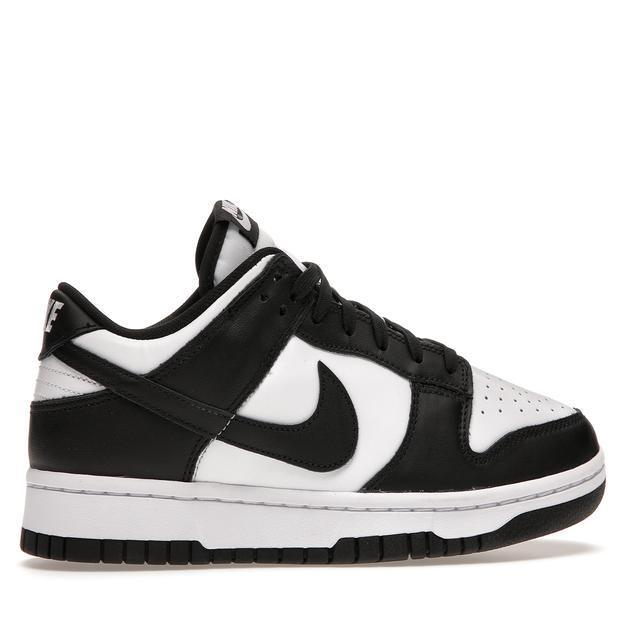J1_InsoleChar: (18, 197, 608, 568)
J1_StitchPattern: (18, 459, 607, 566), (290, 260, 583, 450), (18, 527, 484, 566), (461, 361, 582, 453), (471, 367, 573, 422), (31, 358, 103, 400), (36, 293, 67, 360), (213, 196, 259, 240), (41, 296, 65, 336)
